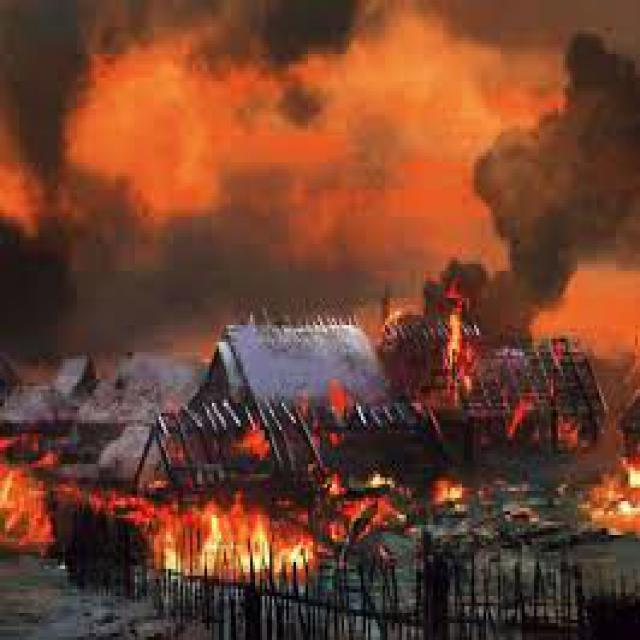fire: (156, 500, 342, 592), (2, 460, 64, 553), (604, 463, 640, 533), (348, 493, 402, 536), (448, 313, 474, 379), (244, 429, 277, 464), (334, 387, 359, 415), (439, 483, 467, 507)
smoke: (485, 46, 640, 320)
